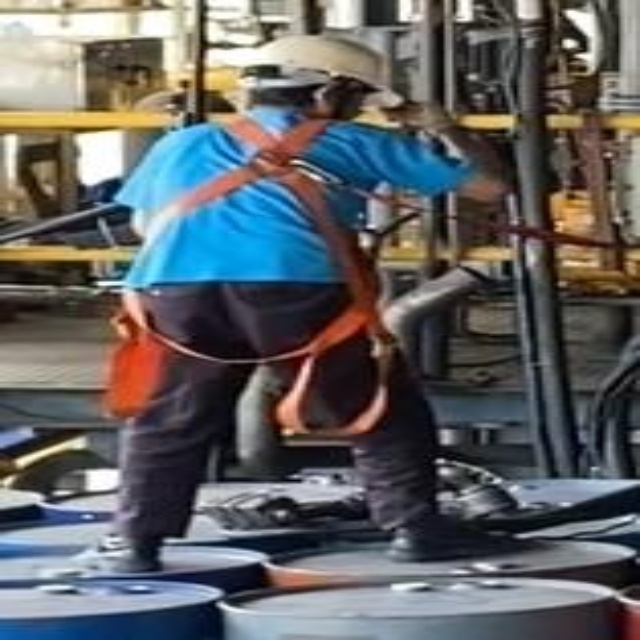Arnes_seguridad: (103, 112, 408, 442)
